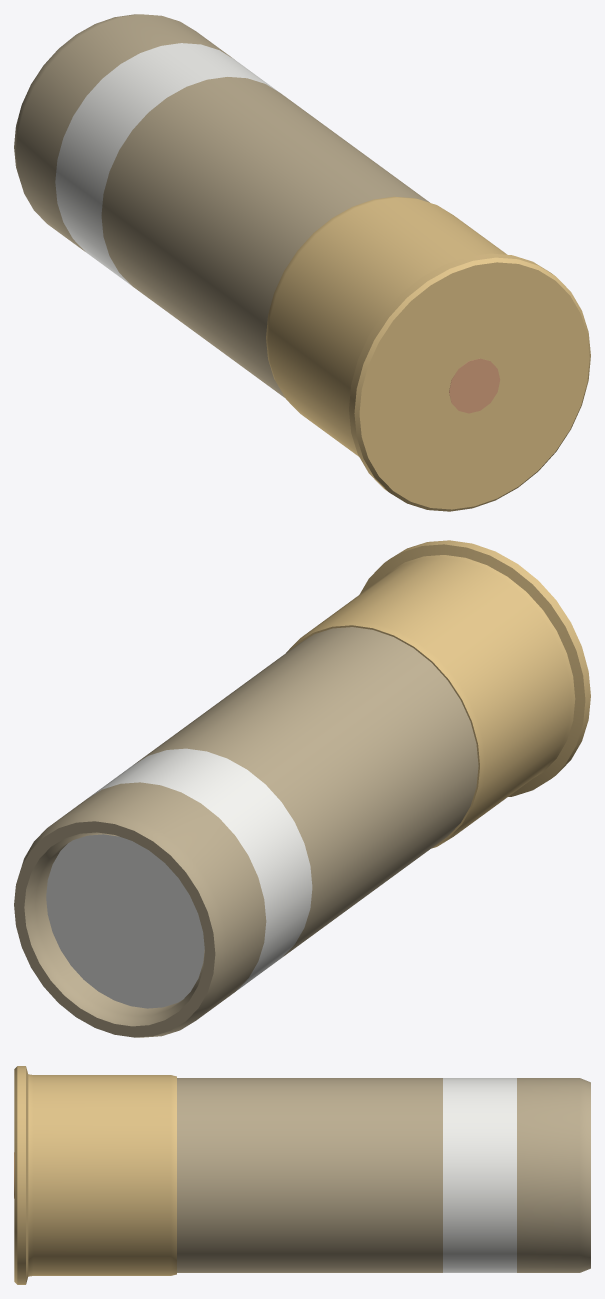
The model's file is flare_white.glb.
The picture shows the model from 3 angles, top to bottom: view 1: azimuth 30°, elevation 25°; view 2: azimuth 150°, elevation 25°; view 3: azimuth 270°, elevation 25°; orthographic projection. The views are drawn at different scales.
Visible parts, largest first — view 1: body; view 2: body; view 3: body.
Part boxes in pixels (<box>): body: <box>14,14,590,511</box>; body: <box>14,540,590,1037</box>; body: <box>14,1066,590,1284</box>.
Bounding box in the file's own units: 0.0296 × 0.0296 × 0.078.
